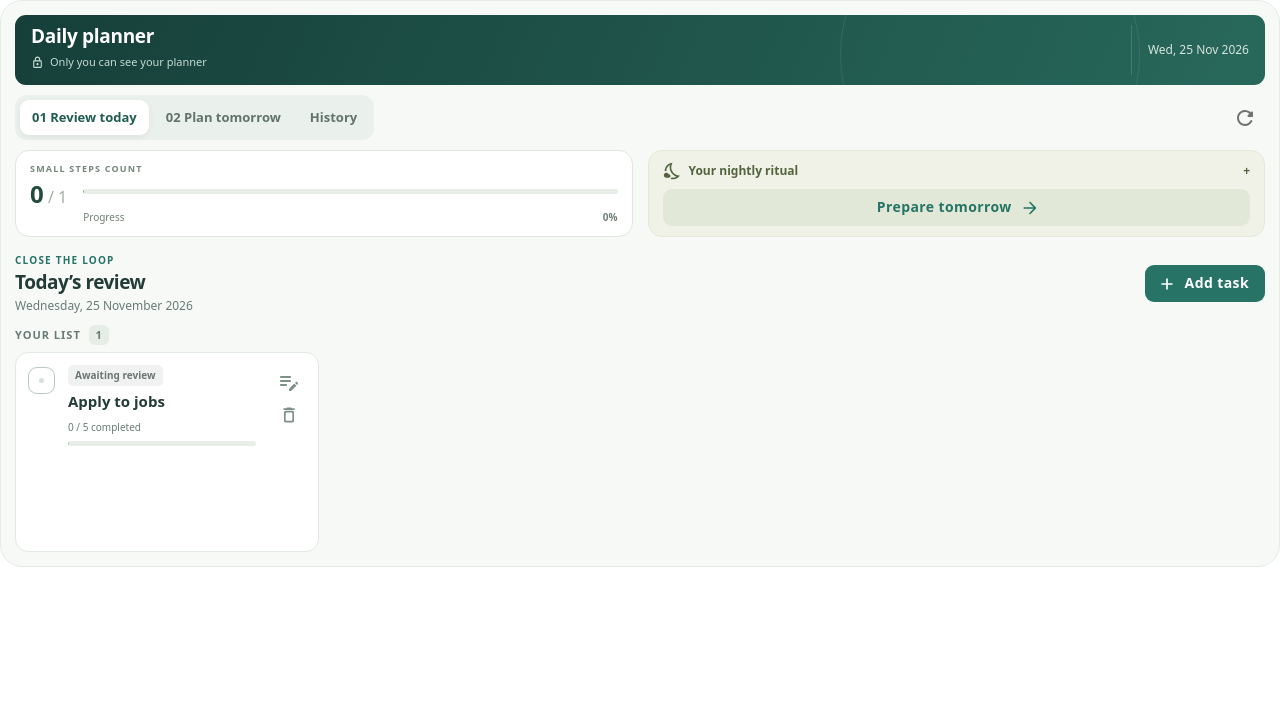
Test: a failed save keeps the review dialog and entered remark
Click the button named "Review Apply to jobs" at (42, 381), box [28,367,55,394]
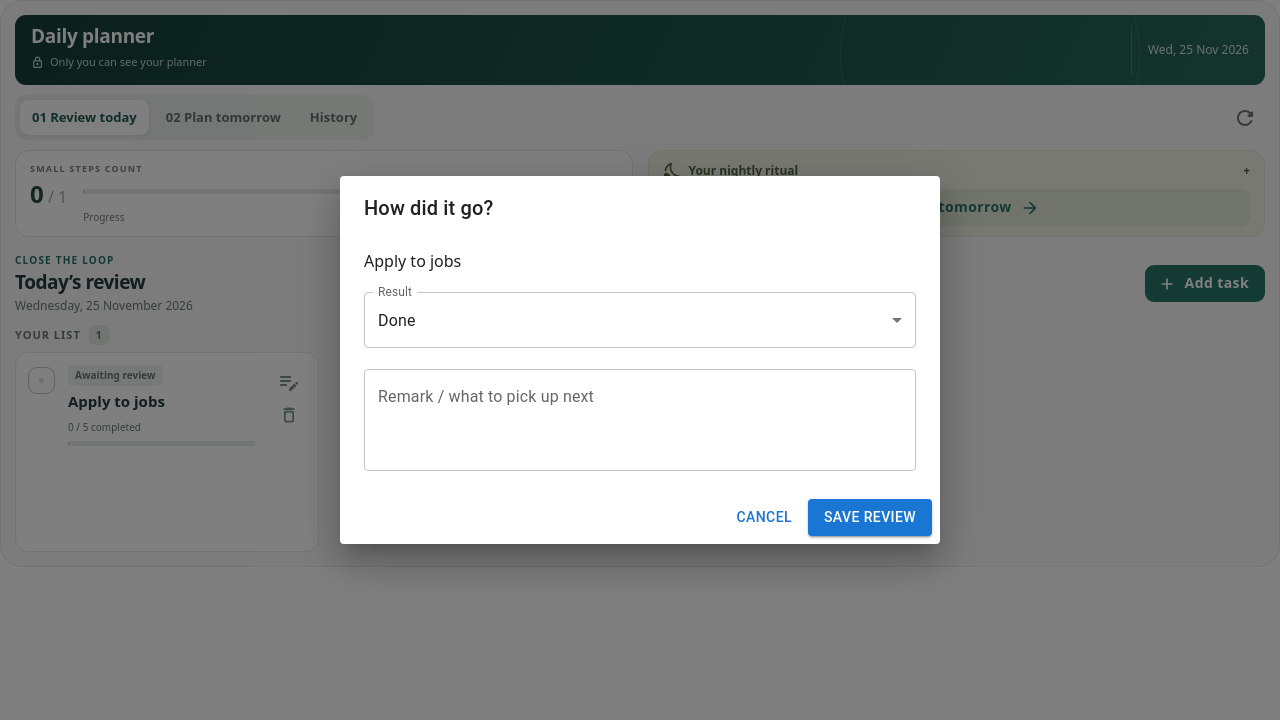
Type "Keep this note" into the text box labelled "Remark / what to pick up next" at (640, 420), box [378,386,902,455]
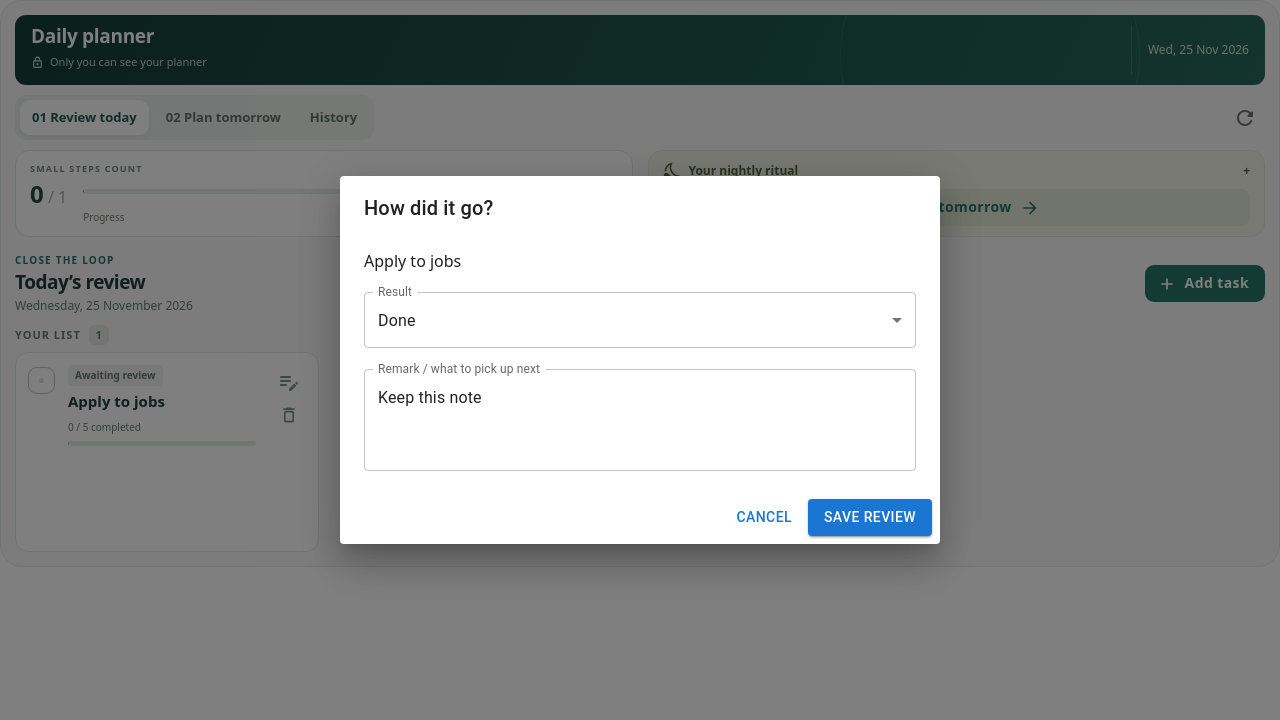
Click the button "Save review" at (870, 518), box [808,499,932,536]
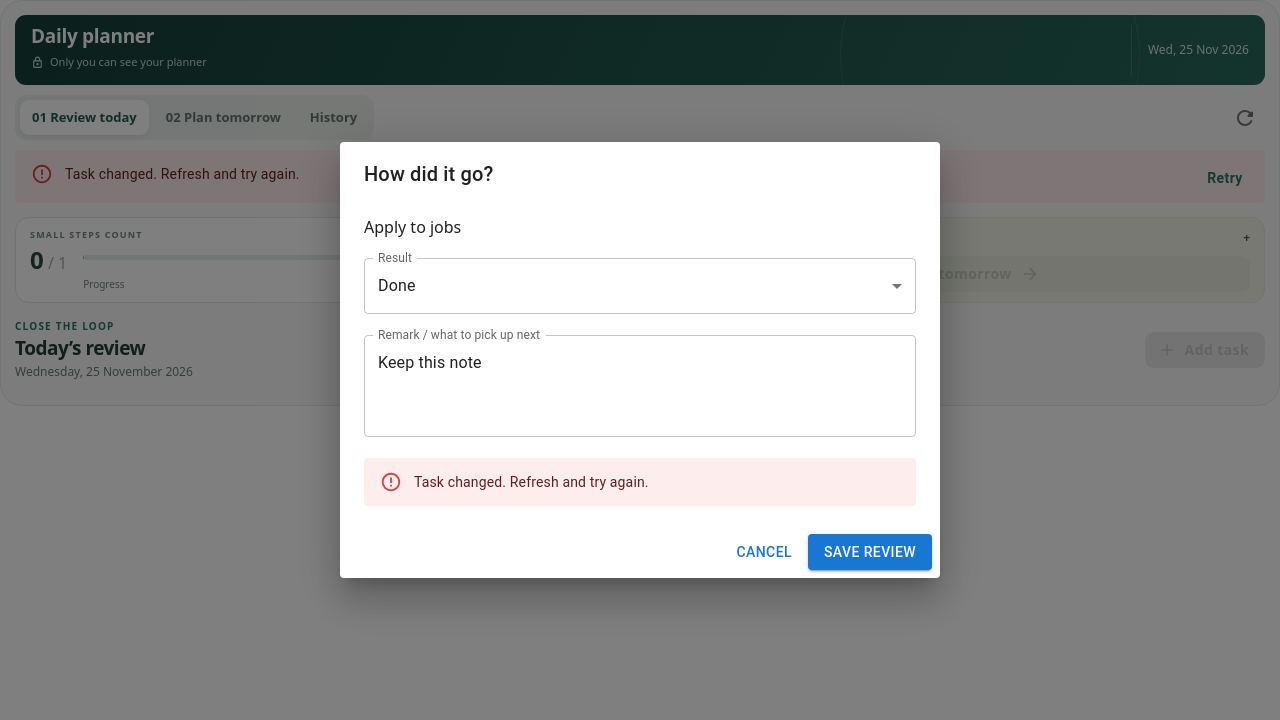
Expected: the text "Task changed. Refresh and try again." is shown, [414,474,649,490]
